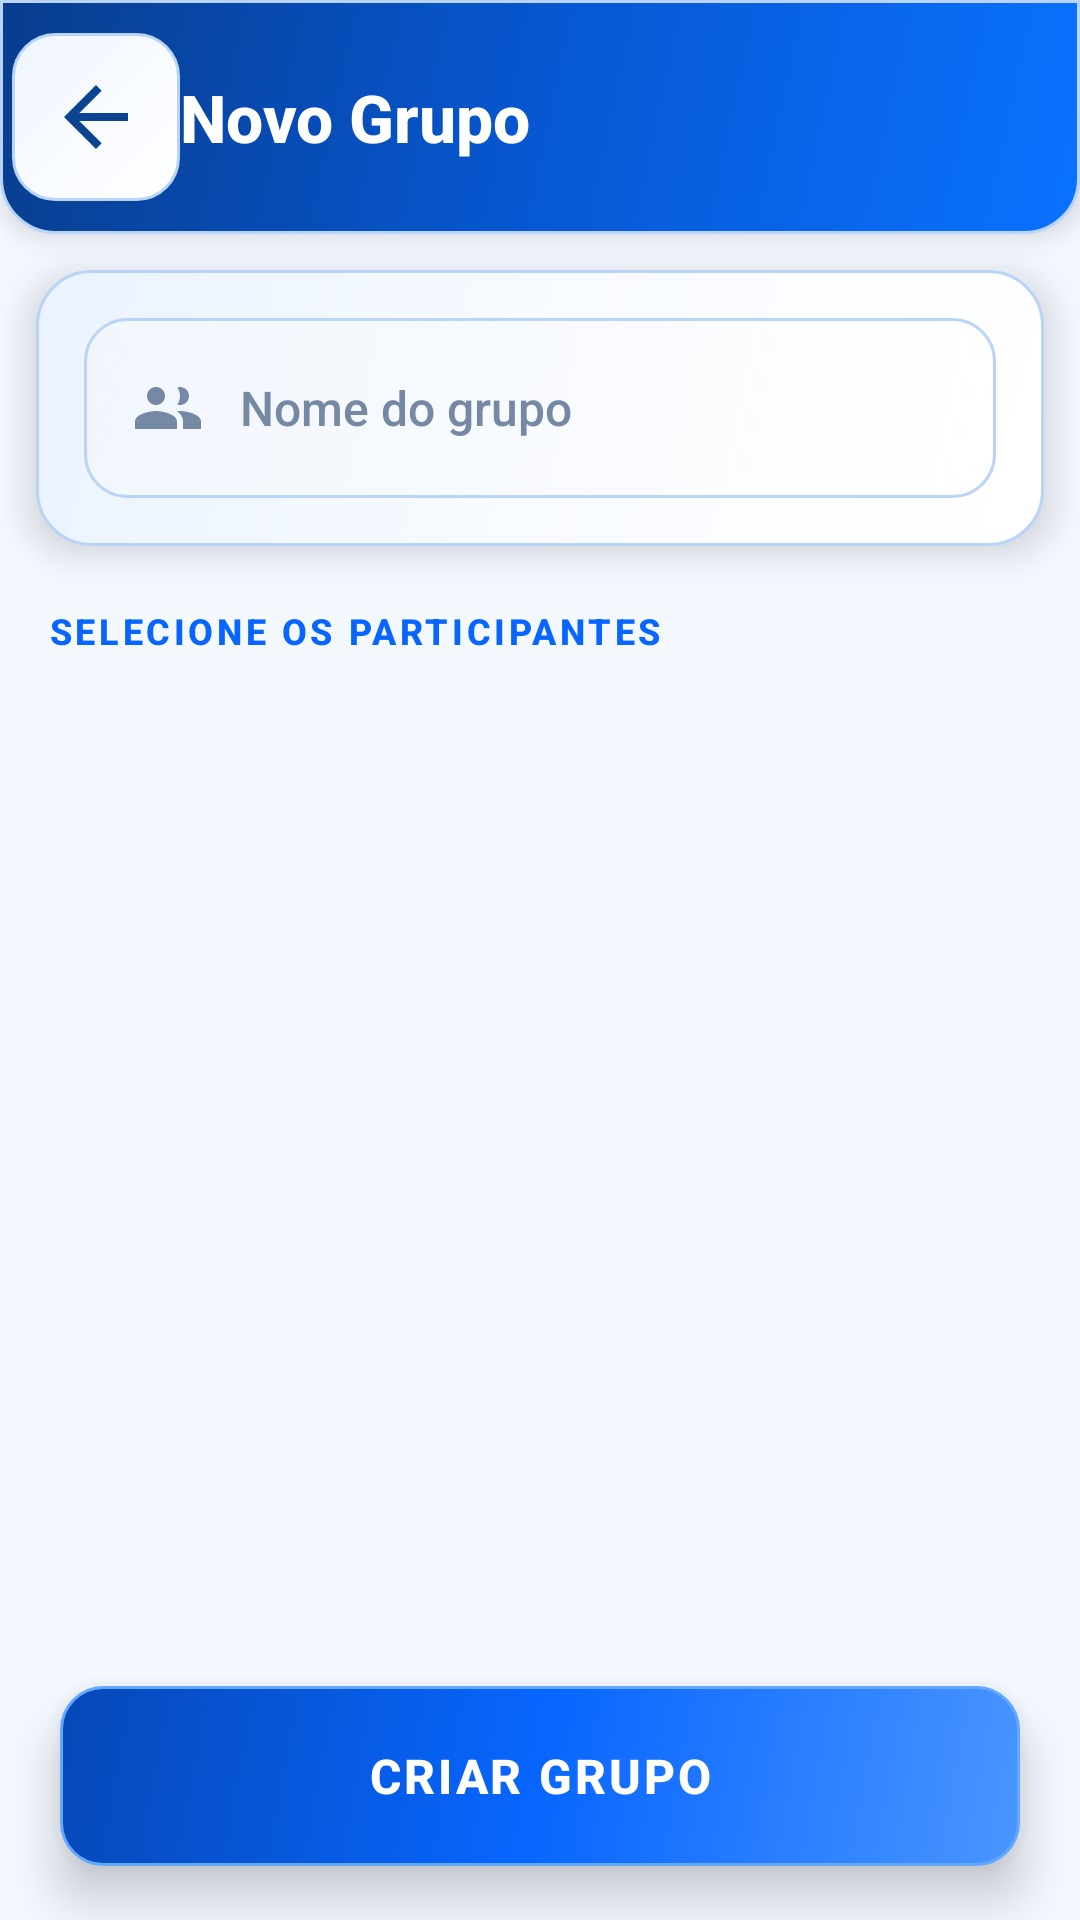

Locate icon controls on the screen. Image size 1080px x 1920px, boxes as (x1, y1, x2, y2).
zen back: (12, 33, 180, 201)
zen group: (135, 387, 201, 429)
